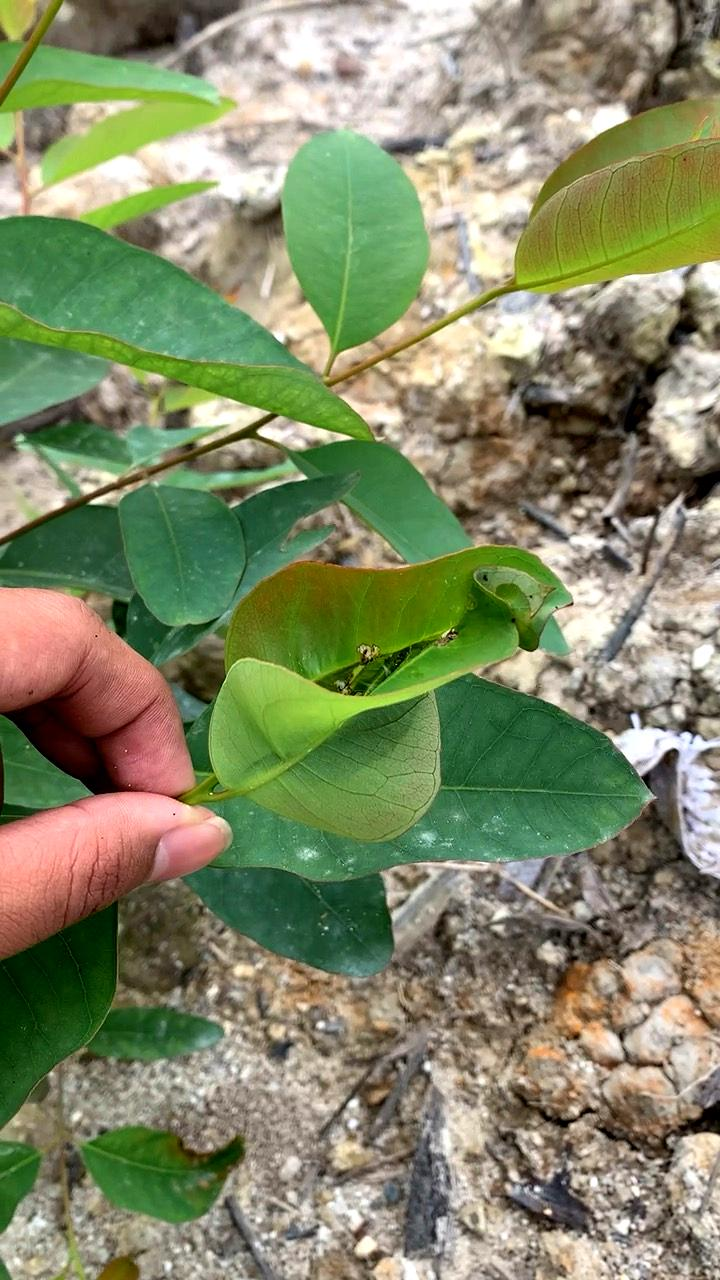Leaf Roller - Leaf: (185, 513, 606, 824)
